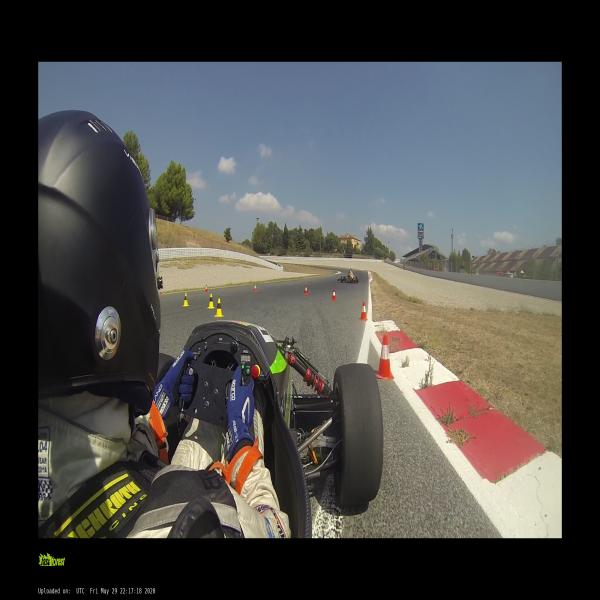orange_cone: (375, 334, 394, 380), (360, 301, 368, 321), (331, 289, 337, 300), (304, 285, 308, 295), (254, 283, 257, 292), (205, 285, 208, 292), (160, 288, 162, 296)
yellow_cone: (216, 298, 224, 317), (207, 294, 215, 310), (183, 293, 188, 306)
